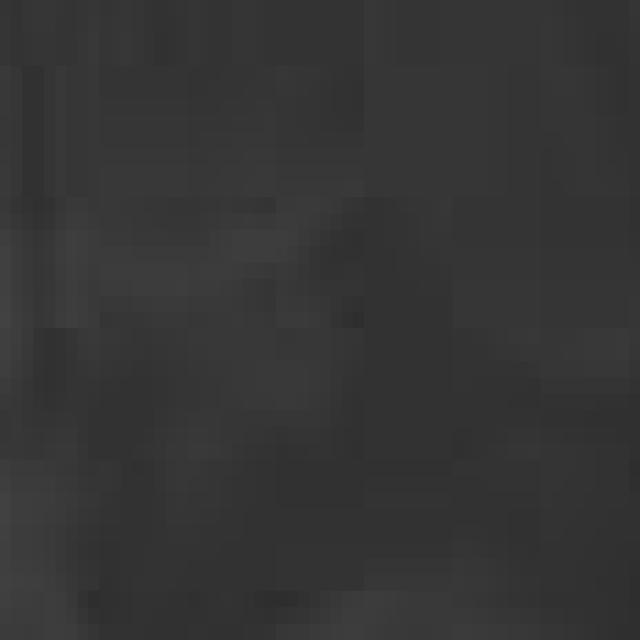fracture: (14, 3, 640, 640)
